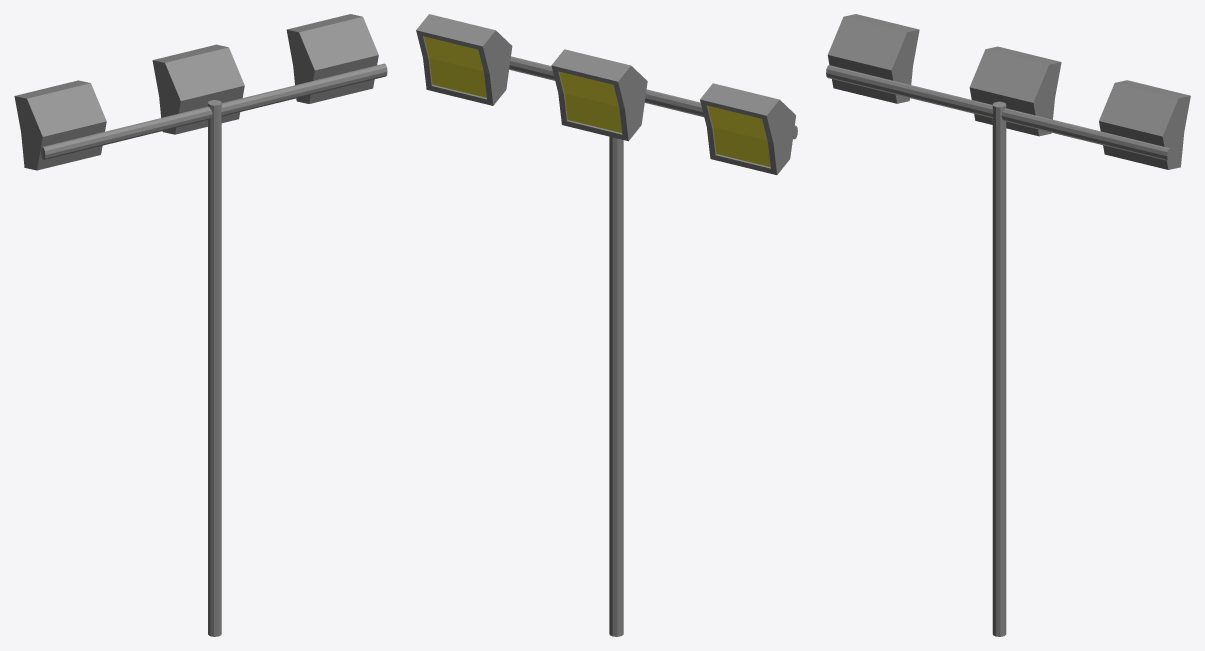
File: street-lamp.glb
3 views of the same model, side by side, from view 1: azimuth 30°, elevation 25°; view 2: azimuth 150°, elevation 25°; view 3: azimuth 330°, elevation 25° (orthographic). The views are drawn at different scales.
Visible parts, largest first — view 1: LightPole01_Cube.003; view 2: LightPole01_Cube.003; view 3: LightPole01_Cube.003.
Boxes of the visible parts, box(x1,y1,x2,y2) form: LightPole01_Cube.003: box(14, 14, 387, 636); LightPole01_Cube.003: box(416, 14, 797, 636); LightPole01_Cube.003: box(826, 14, 1190, 636).
Bounding box in the file's own units: 22.67 × 35.77 × 3.88.
